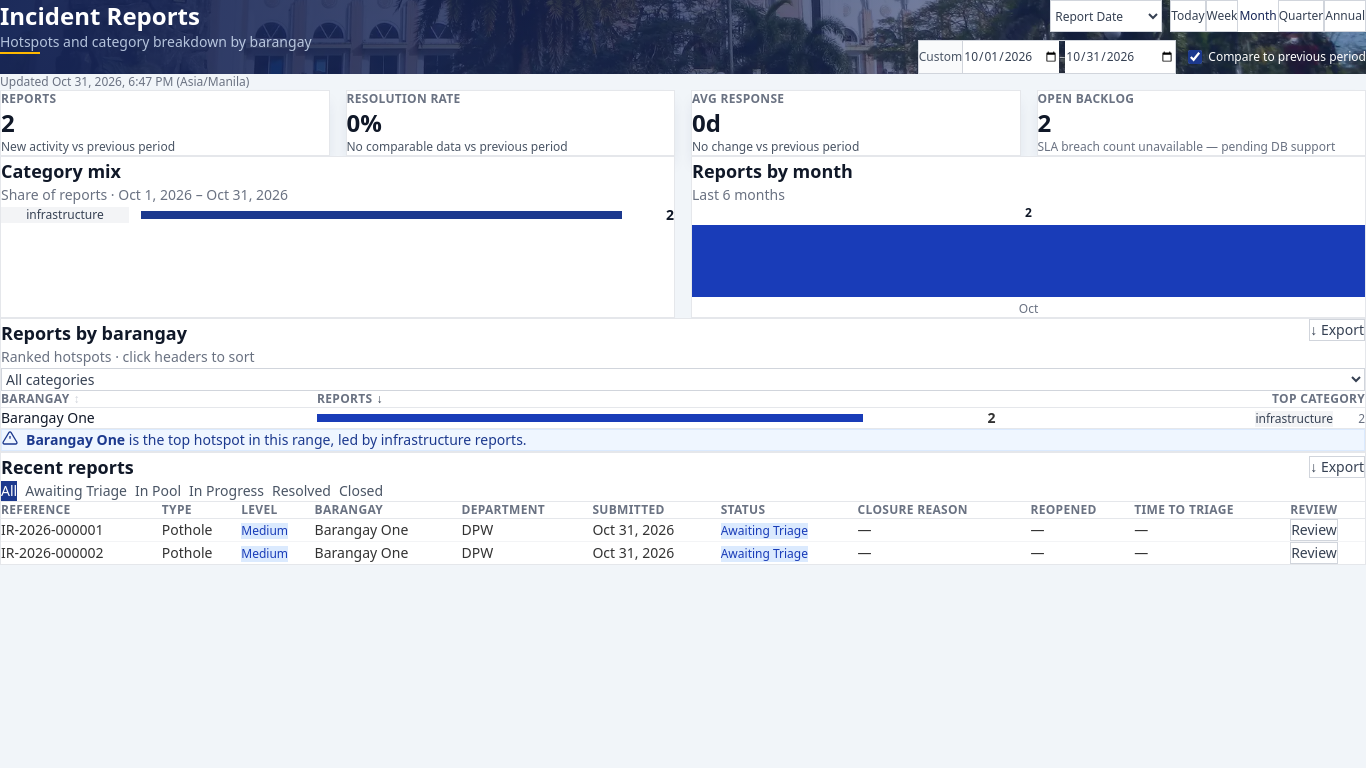
Test: IssueReportsPage › clicking Review on a row opens the audited PII drill-down for that incident's id
Expected: the text "IR-2026-000001" is shown, [1,518,162,542]
Expected: the text "IR-2026-000002" is shown, [1,542,162,564]
Click the button "Review" in the row of "IR-2026-000002": (1314, 553) [1290,542,1338,564]
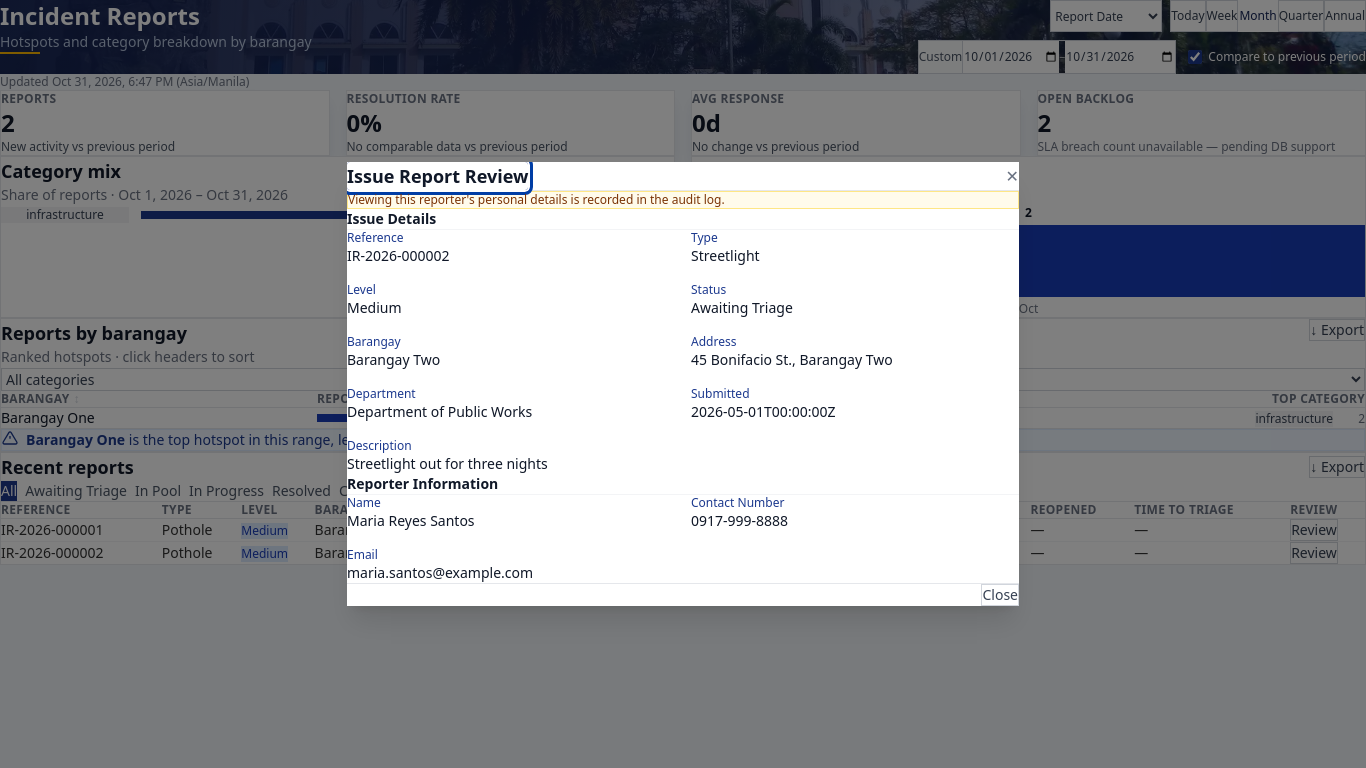
Now the text "maria.santos@example.com" is shown, box [347,563,533,582]
